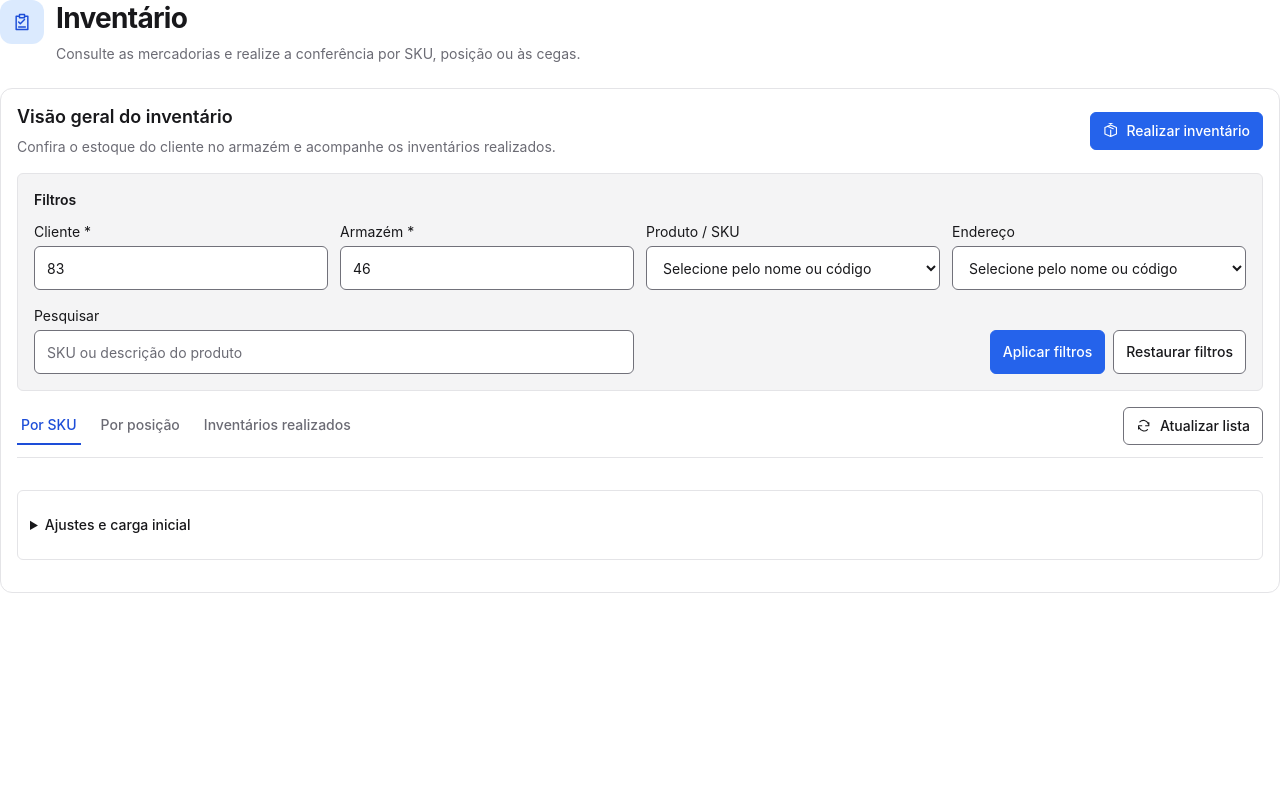
Scenario: exige seleção em Por SKU antes de iniciar
The width and height of the screenshot is (1280, 800).
Click the button "Realizar inventário".
click(1176, 131)  # box [1090,112,1263,150]
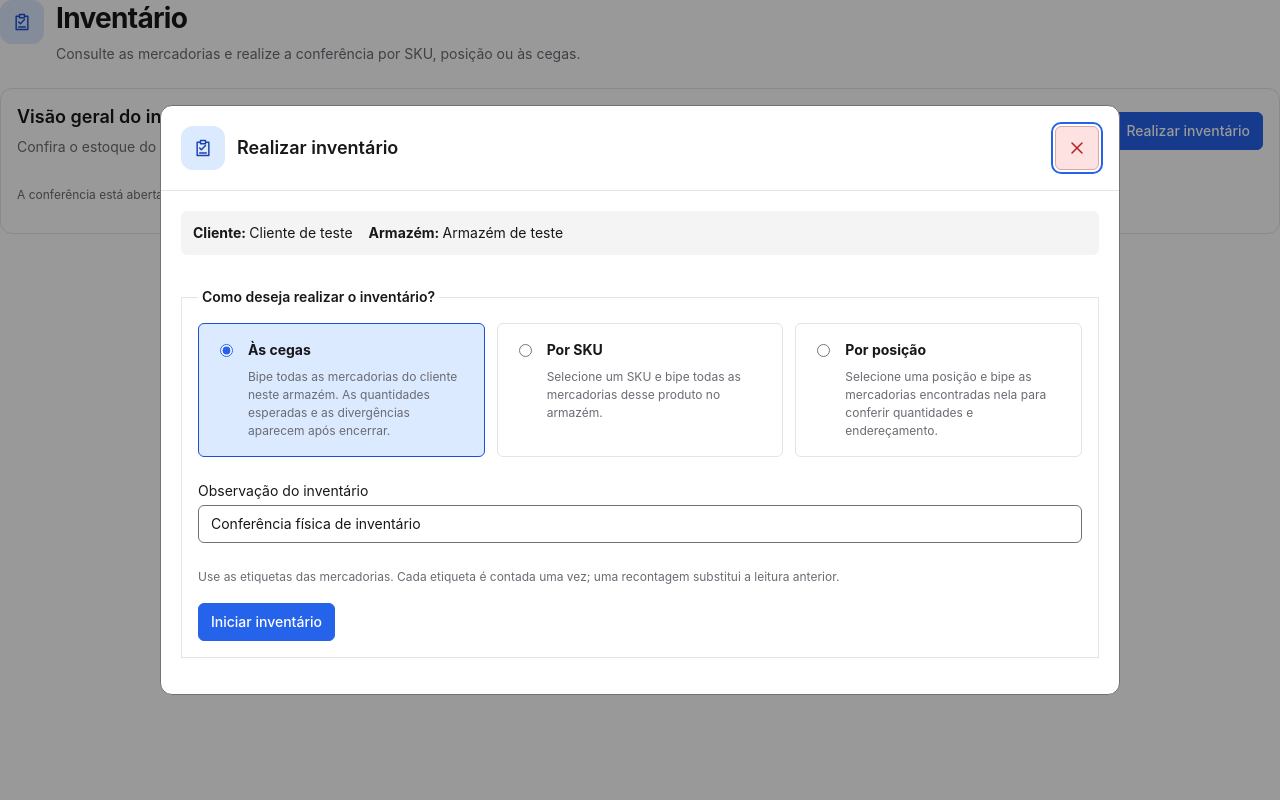
Click the radio button labelled "Por SKU".
click(525, 350)  # box [519,344,532,357]
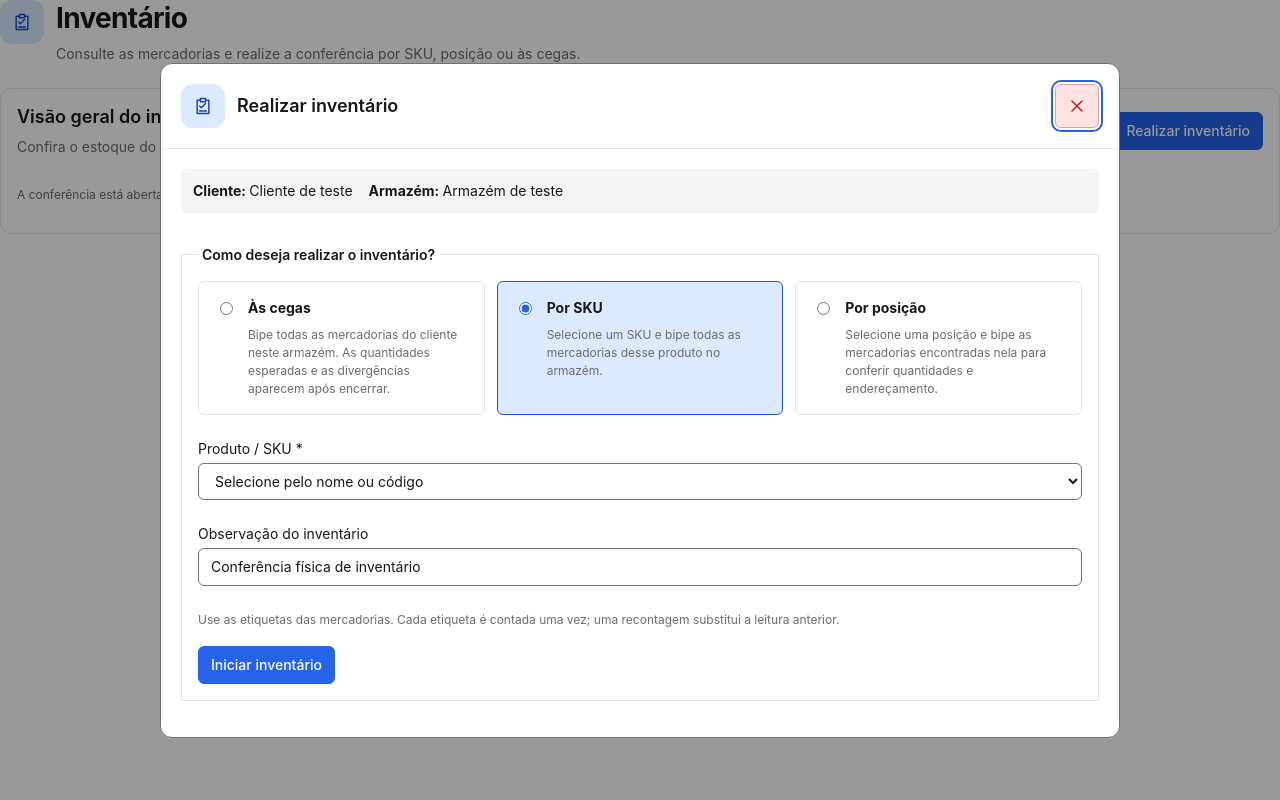
Submit the form named "Iniciar inventário", box [181,228,1099,716]
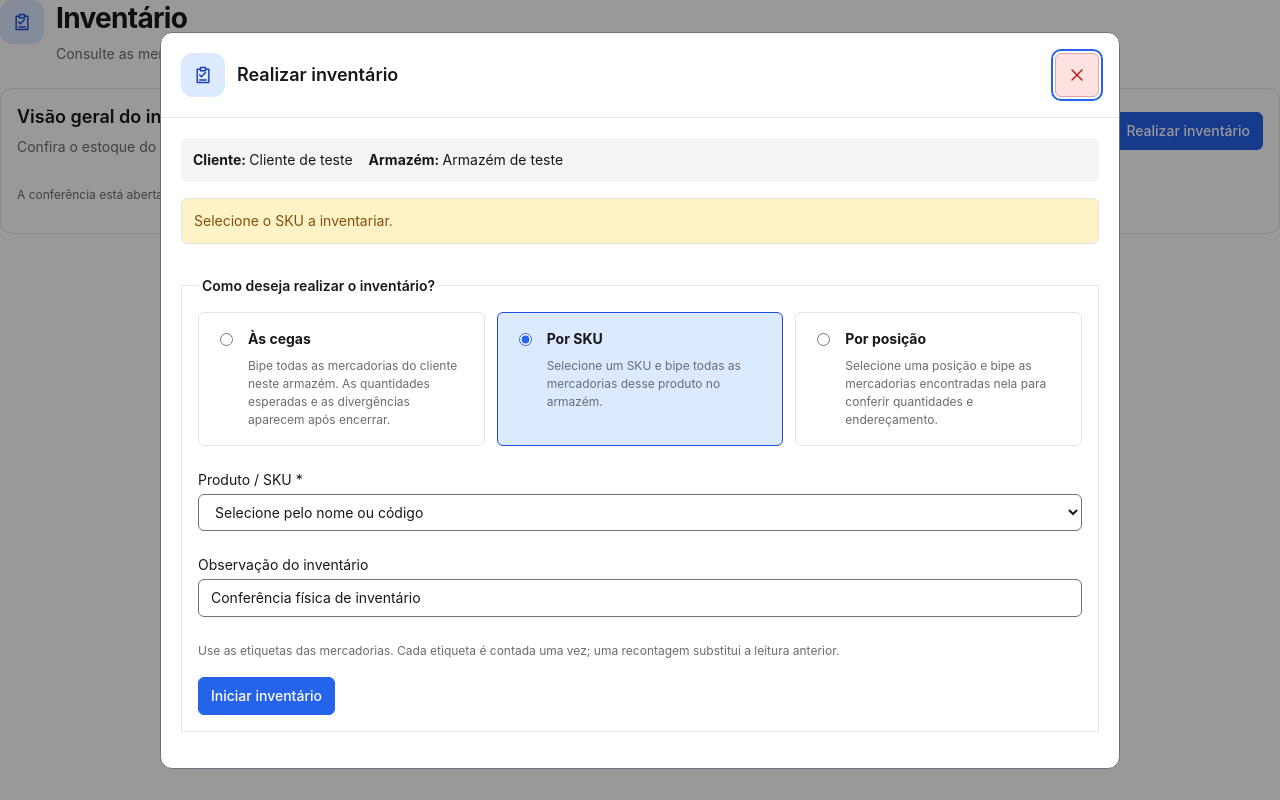
Result: the message shows "SKU" at [194,212,393,228]
